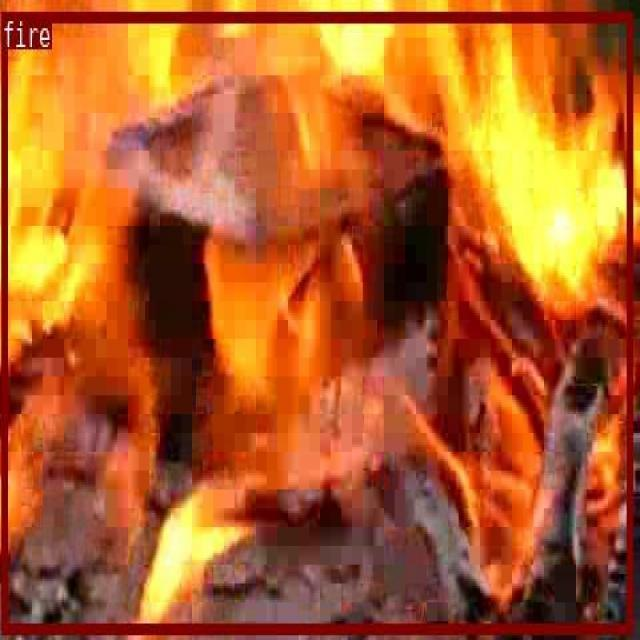fire: (0, 11, 631, 631)
